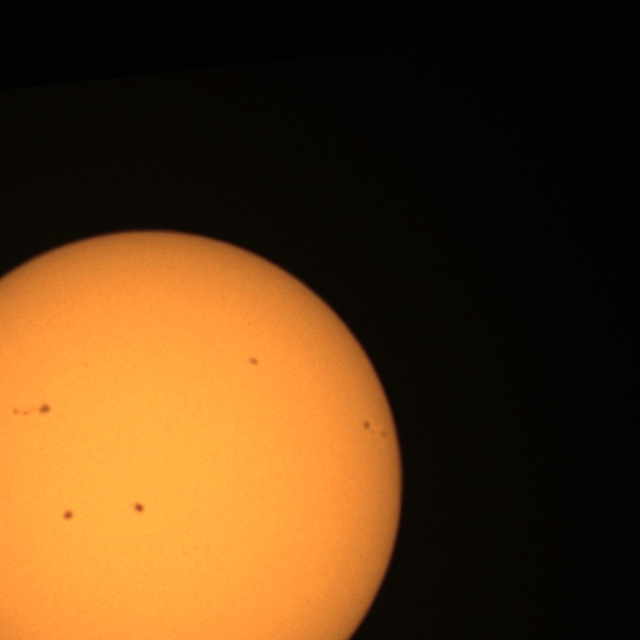sunspot: (10, 402, 55, 418), (362, 419, 389, 440), (10, 406, 31, 418), (37, 402, 52, 416), (132, 501, 146, 514), (61, 509, 75, 522), (248, 356, 260, 368), (361, 419, 372, 432)
